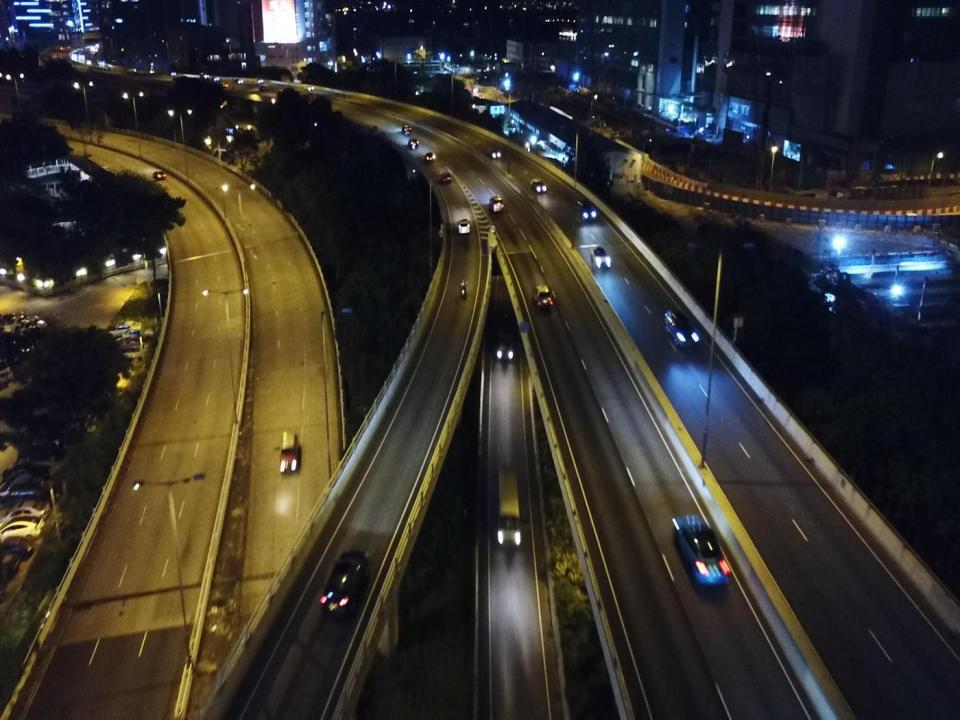car: (672, 514, 730, 590), (320, 548, 369, 616), (667, 309, 698, 346), (0, 502, 51, 522), (0, 480, 56, 498), (0, 518, 45, 539), (20, 441, 67, 461), (0, 535, 36, 560), (2, 463, 52, 480), (280, 432, 299, 476), (4, 314, 39, 333), (106, 320, 143, 337), (120, 323, 154, 340), (592, 248, 612, 275), (534, 285, 554, 311), (118, 346, 144, 361), (17, 320, 47, 332), (531, 178, 546, 193), (488, 149, 501, 159), (154, 169, 166, 179), (441, 172, 452, 182), (424, 152, 436, 160), (402, 125, 411, 135), (410, 140, 419, 148), (166, 69, 176, 76), (304, 85, 314, 91), (232, 79, 243, 84), (200, 72, 209, 78), (255, 78, 263, 83), (219, 82, 227, 87), (258, 86, 266, 90), (212, 77, 220, 80)
truck: (496, 315, 515, 360)
van: (497, 467, 521, 544), (577, 199, 596, 220), (488, 195, 506, 214), (113, 337, 143, 348), (458, 217, 471, 235)
